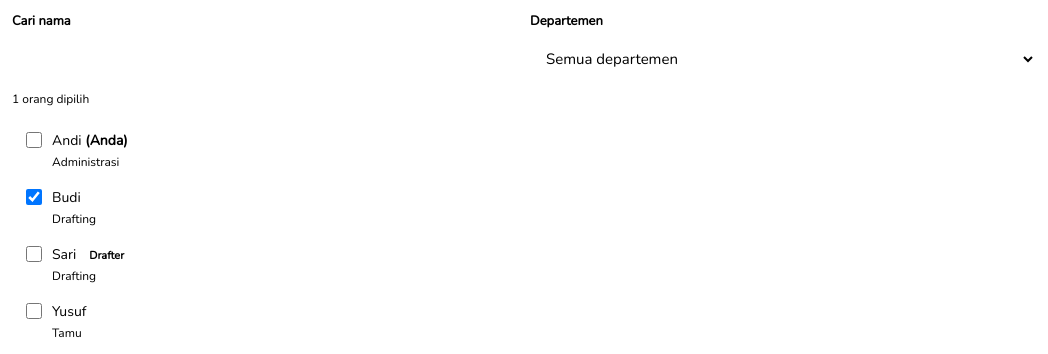
Scenario: PeoplePicker › mencentang dan melepas memanggil onToggle
What coordinates should you click on to do the following:
click the checkbox labelled "Budi Drafting"
I would click on:
 (34, 196)
Its box is x1=26 y1=188 x2=42 y2=204.
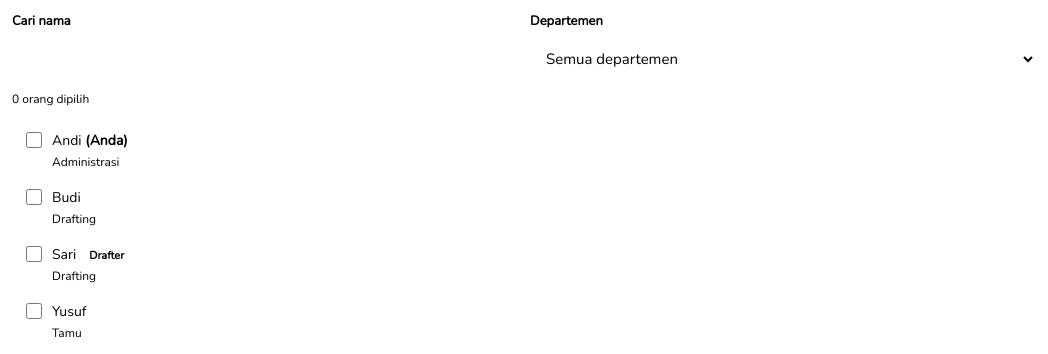
What coordinates should you click on to do the following:
click the checkbox labelled "Sari Drafter Drafting"
I would click on:
 (34, 254)
Its box is x1=26 y1=246 x2=42 y2=262.
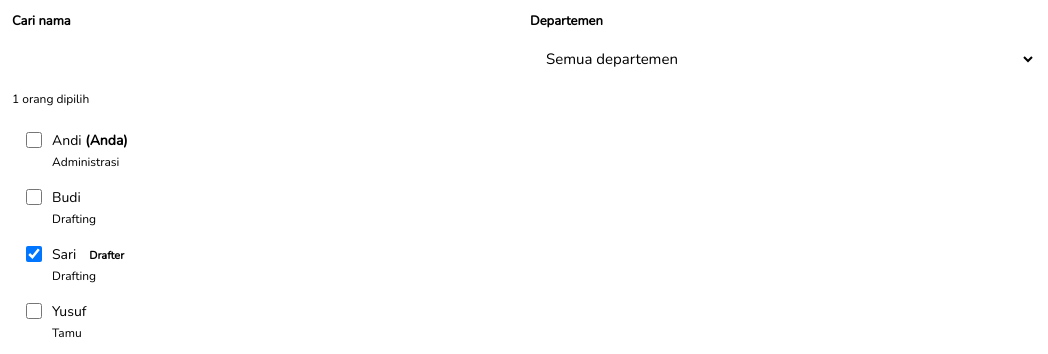
expect the text "1 orang dipilih" is shown: met, box x1=12 y1=90 x2=89 y2=106
